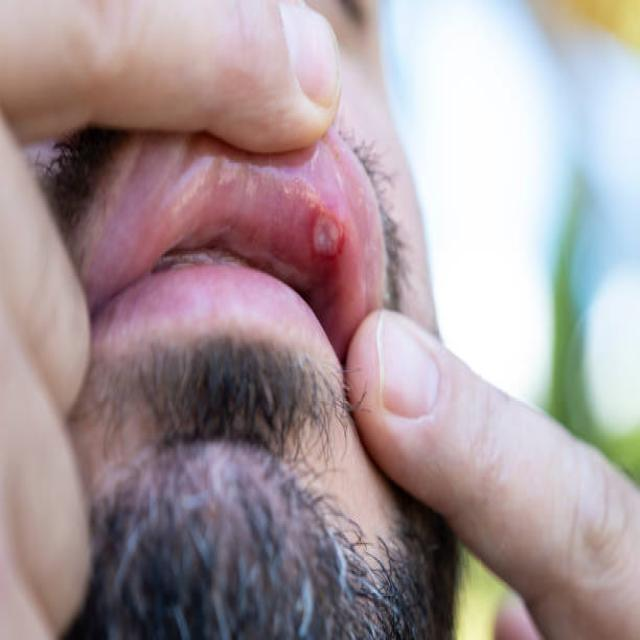processing_area: (103, 144, 373, 317)
ulcer-detection: (288, 183, 358, 275)
